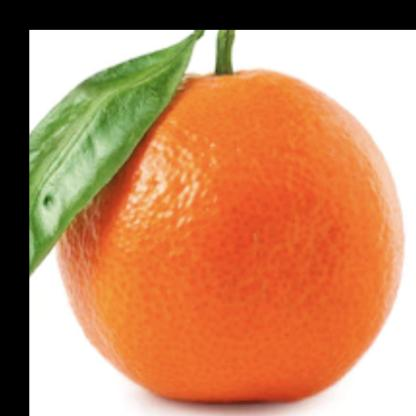fresh: (53, 65, 403, 401)
